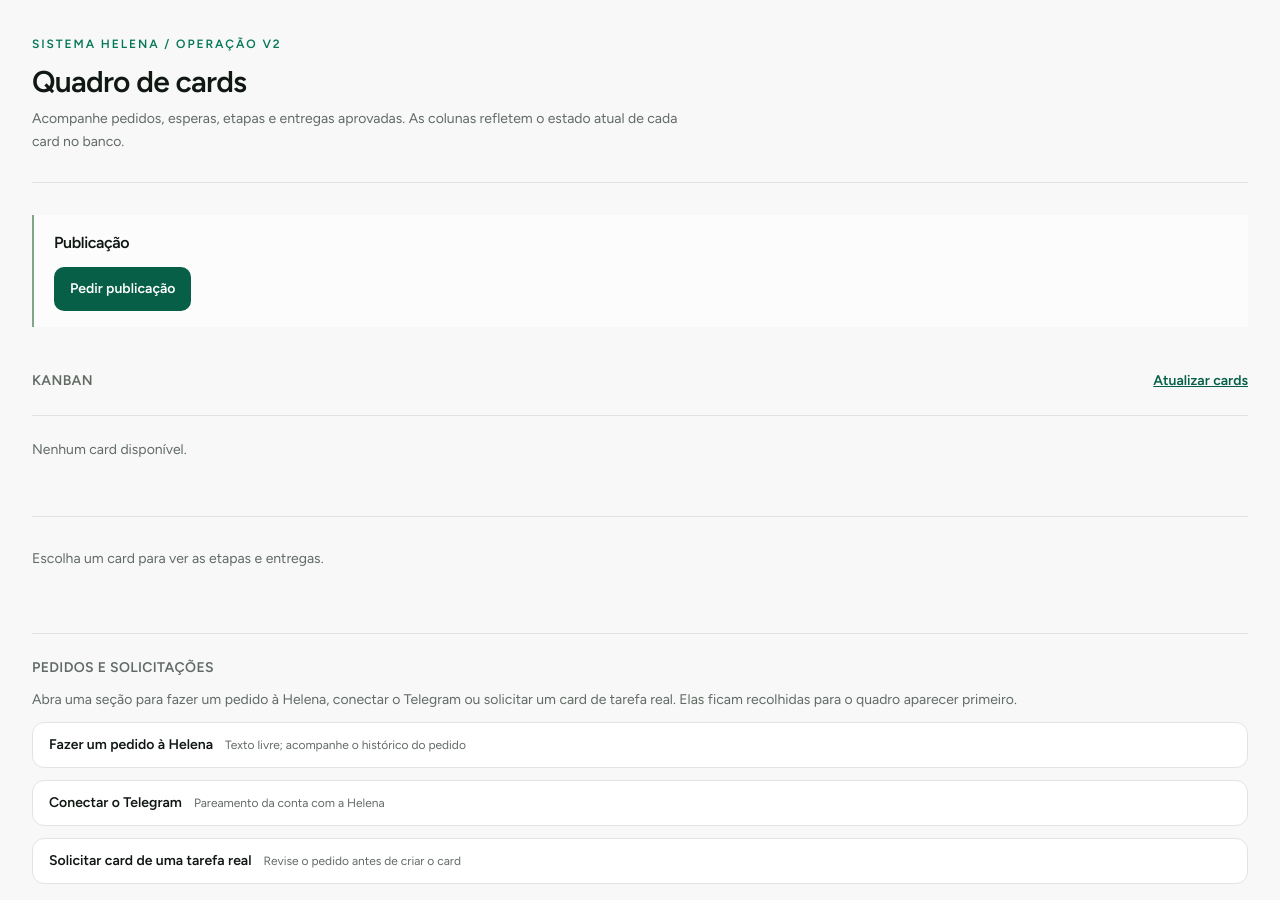
it: mostra pedido de publicação só ao fundador confirmado pelo banco e atualiza status
The image size is (1280, 900).
Click the button "Pedir publicação": (123, 288) x1=54 y1=266 x2=192 y2=310
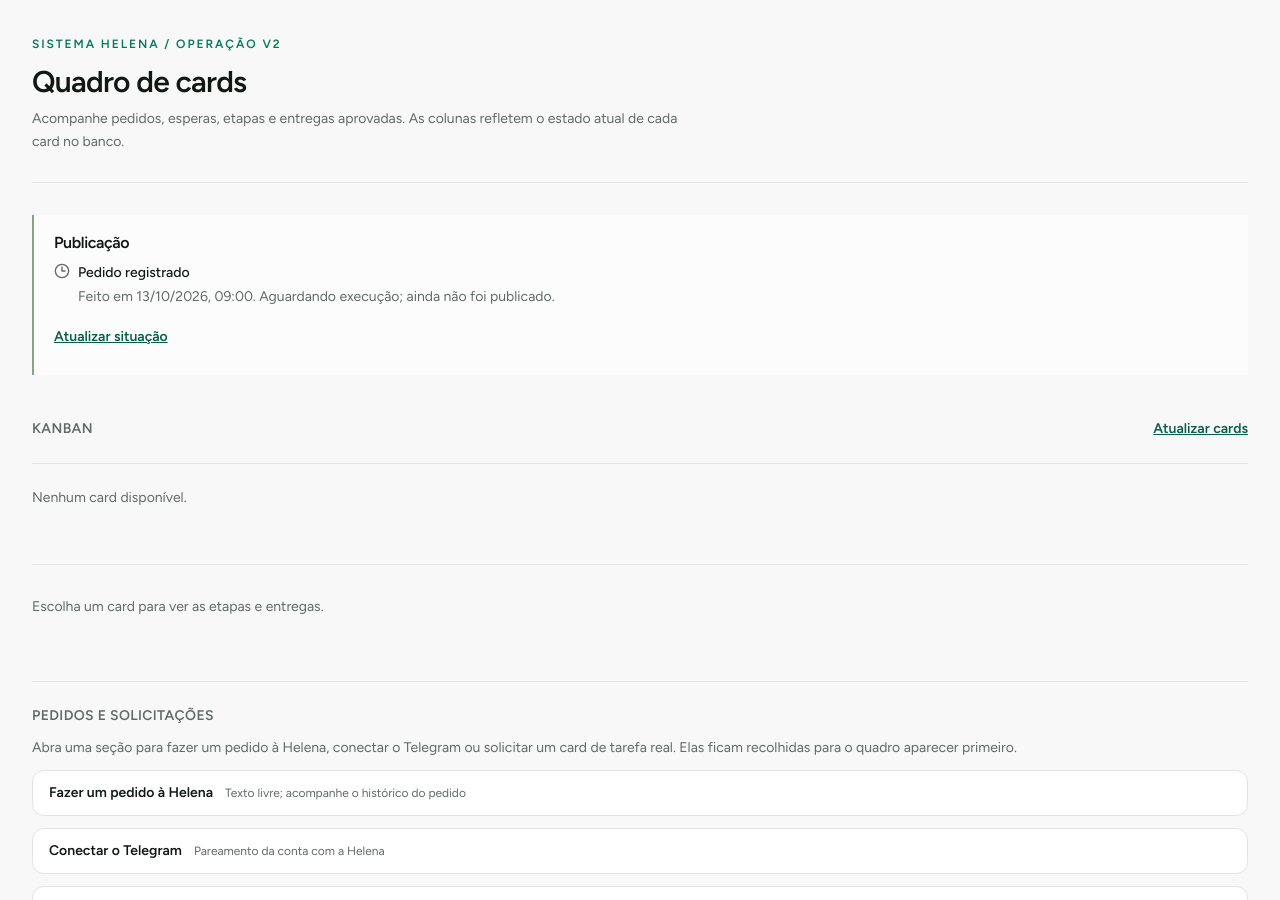
Now the text "Pedido registrado" is shown, box x1=78 y1=262 x2=190 y2=282
Now the button "Pedir publicação" is gone
